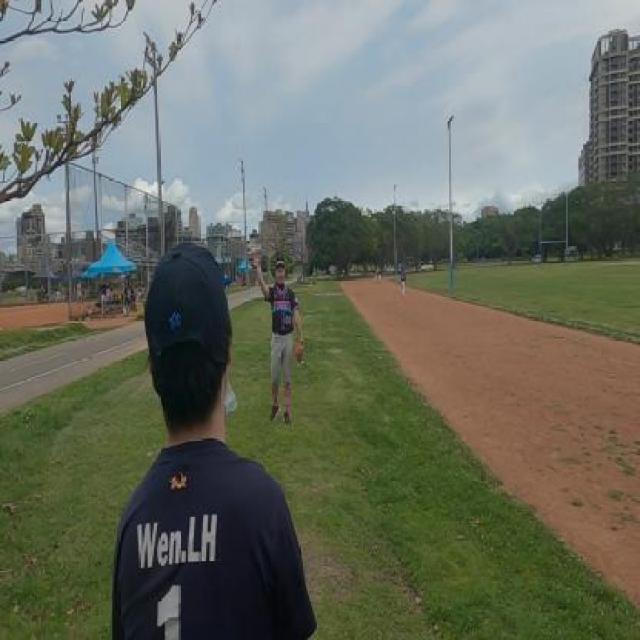baseball: (251, 248, 255, 255)
